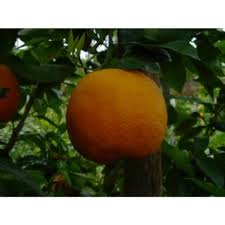orange: (64, 66, 172, 167), (1, 59, 24, 131)
